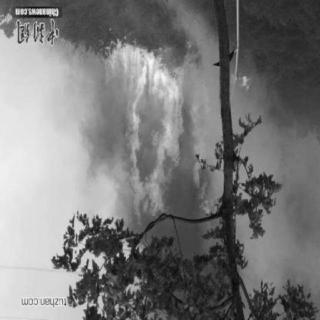Fire: (99, 37, 215, 230), (230, 68, 257, 96)
